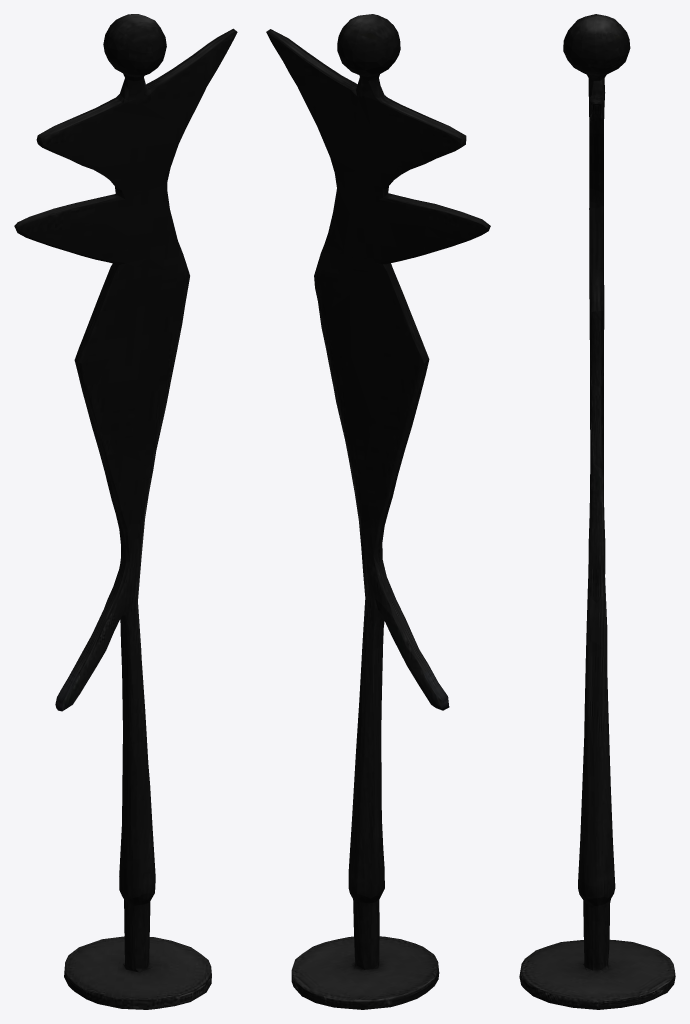
File: j-sculpture.glb
3 renders of one model, left to right at view 1: azimuth 30°, elevation 25°; view 2: azimuth 150°, elevation 25°; view 3: azimuth 270°, elevation 25°, orthographic.
Parts seen in each view (by area): view 1: geometry_0; view 2: geometry_0; view 3: geometry_0.
Boxes of the visible parts, left/top/right/bottom form: geometry_0: left=14, top=14, right=237, bottom=1009; geometry_0: left=266, top=14, right=490, bottom=1009; geometry_0: left=519, top=14, right=675, bottom=1009.
Bounding box in the file's own units: 0.2402 × 0.9994 × 0.1474.
1 material, 1 textured.
